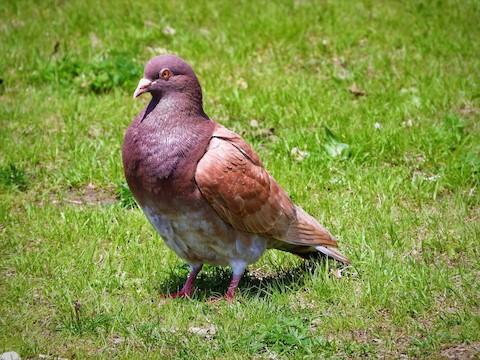pigeon: (115, 50, 356, 311)
